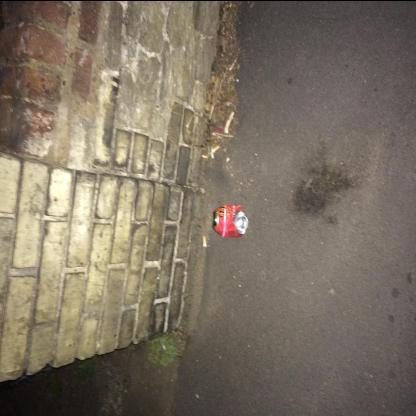metal: (212, 203, 249, 237)
